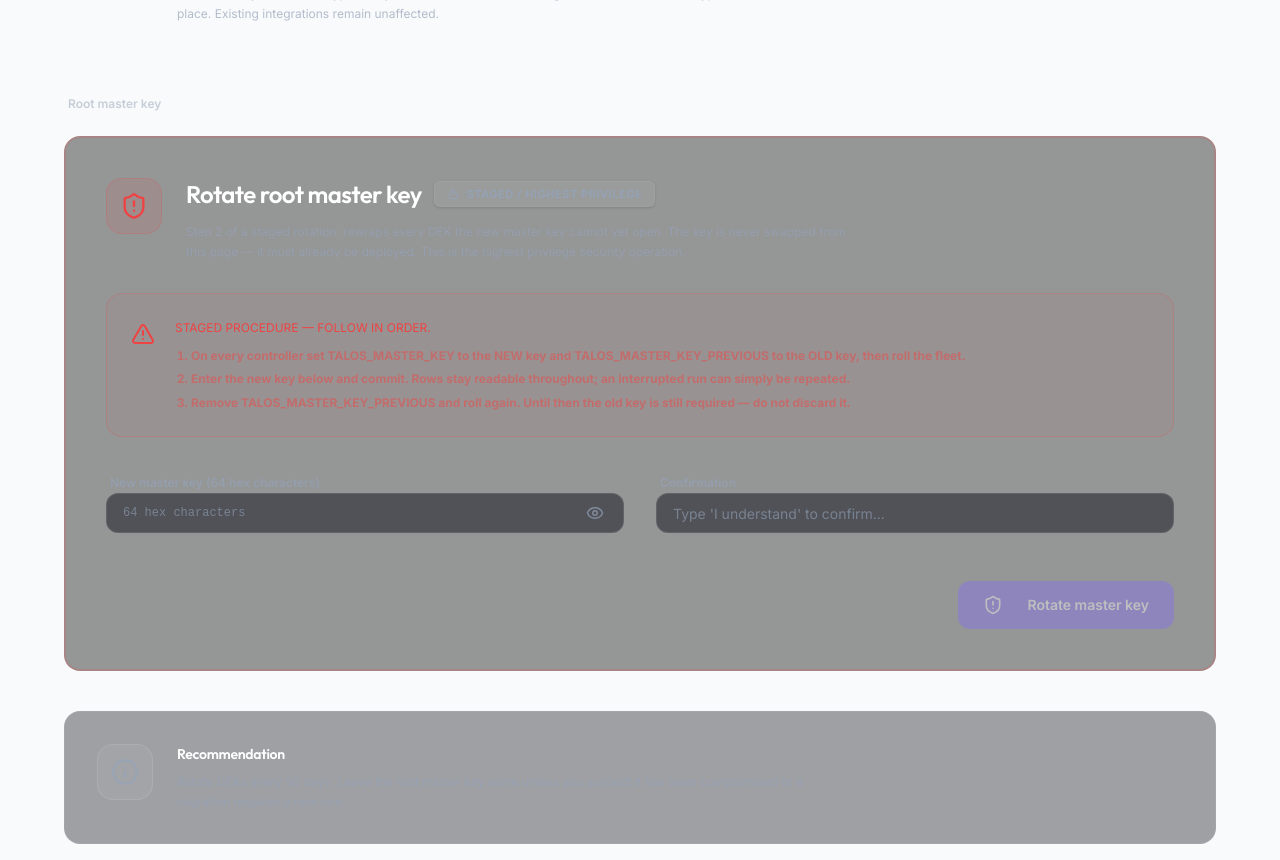
SecurityManager › keeps the master-key commit gated on a 64-char hex entropy input
(page scrolled)
Type "abc" into the password field with placeholder "64 hex characters" at (365, 513), box [106,493,624,533]
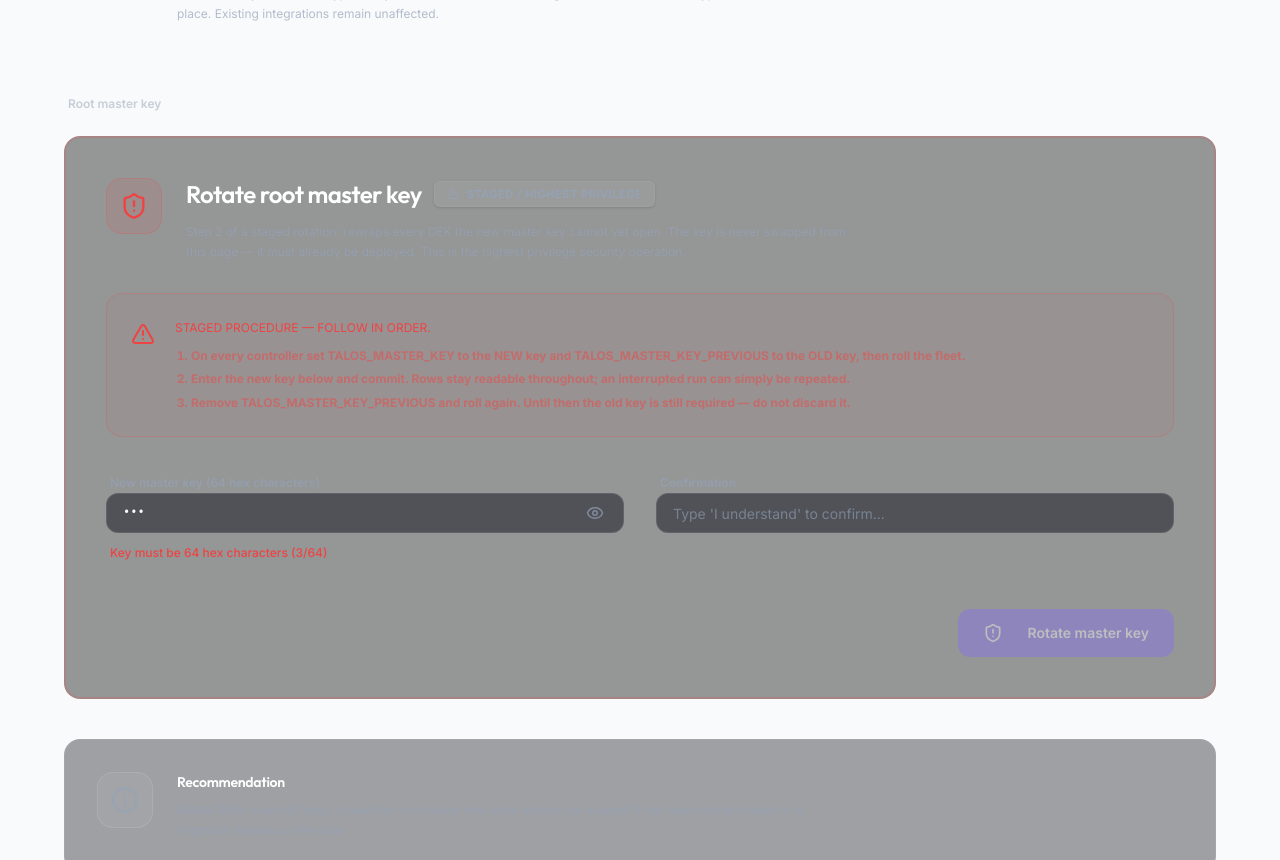
Check: the button "Rotate master key" is disabled, box [958,609,1174,657]
Check: the text "Key must be 64 hex characters (3/64)" is shown, box [110,545,327,560]
